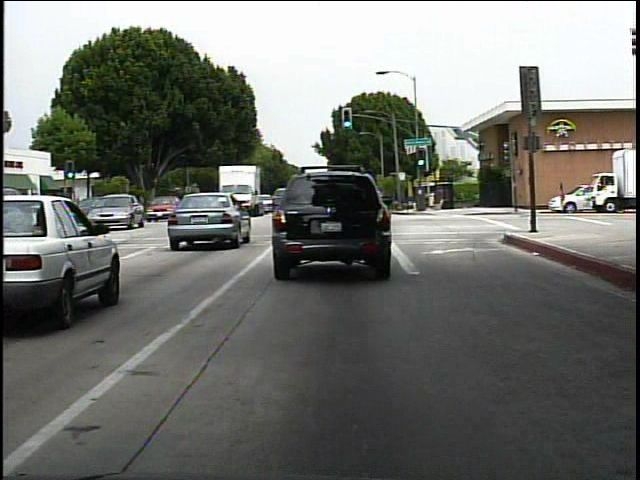car: (271, 162, 394, 283), (1, 186, 98, 339), (163, 187, 251, 249), (88, 192, 144, 229), (143, 194, 179, 221)
strada: (65, 271, 640, 463)
